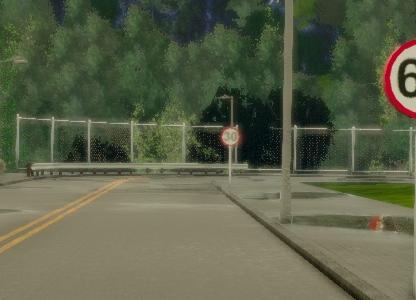Speed_60: (384, 38, 416, 119)
